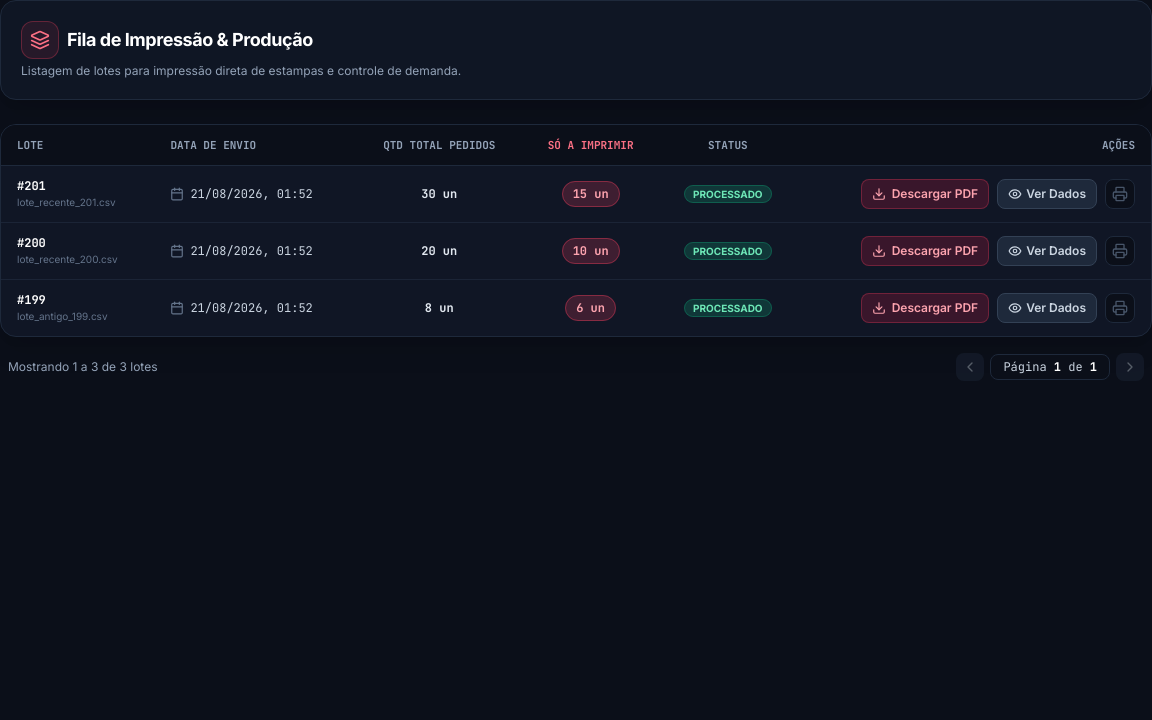
Test: Role-Based Orders & Notifications Tests › Imprenta Role view automatically renders 5-per-page list with download, modal and disabled printer placeholder
Expected: the heading "Fila de Impressão & Produção" is shown, [67,26,313,54]
Expected: the column heading "Data de Envio" is shown, [154,125,356,166]
Note: Check modal opens on clicking Ver Dados
What coordinates should you click on to do the following:
click the button "Ver Dados" in the row of "lote_recente_201.csv"
I would click on:
 (1047, 194)
Its box is [997,179,1097,209].
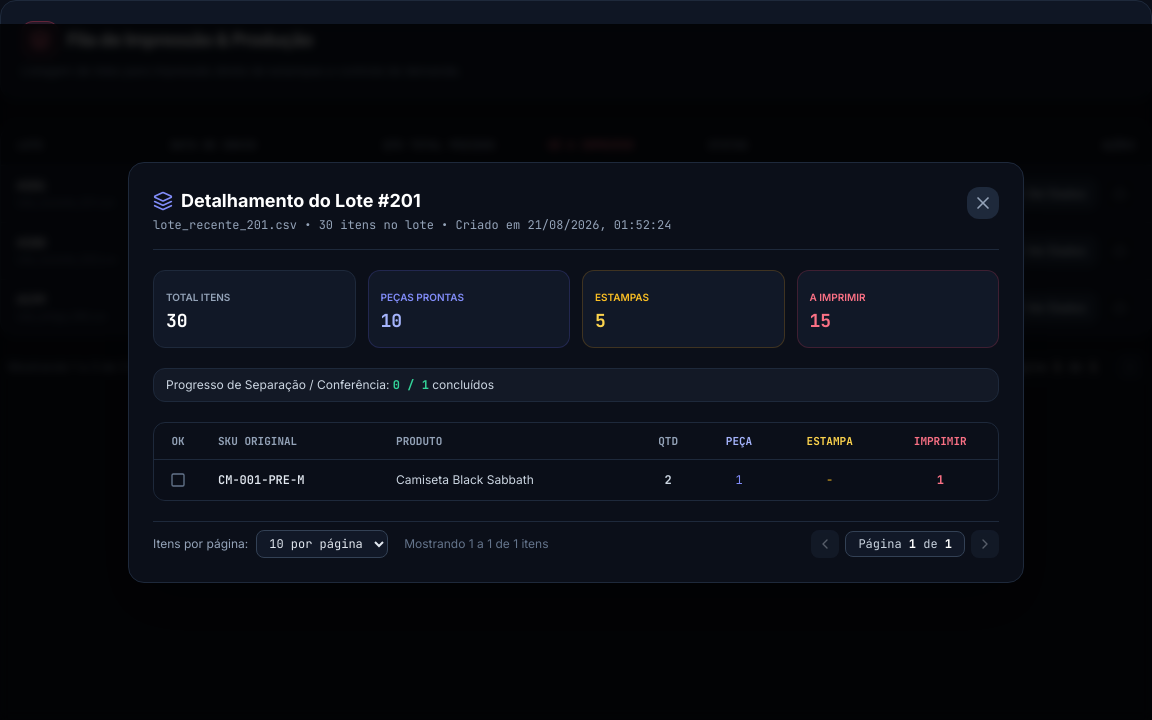
Result: the heading "Detalhamento do Lote #201" is shown at [153,190,421,210]
Result: the text "CM-001-PRE-M" is shown at [202,459,380,500]
